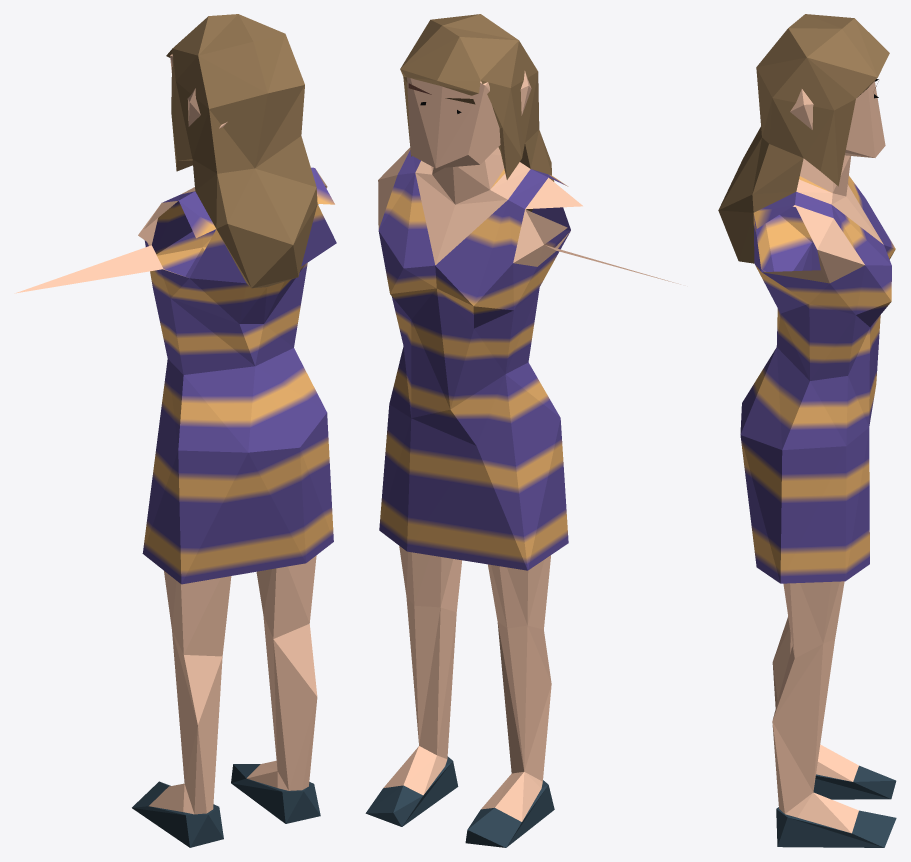
Rendered from Body_Lo.obj.
3 renders of one model, left to right at view 1: azimuth 30°, elevation 25°; view 2: azimuth 150°, elevation 25°; view 3: azimuth 270°, elevation 25°, orthographic.
Size of the model in its own units: 0.7535 by 1.82 by 0.3704.
Materials: 1 (1 with a texture image).
